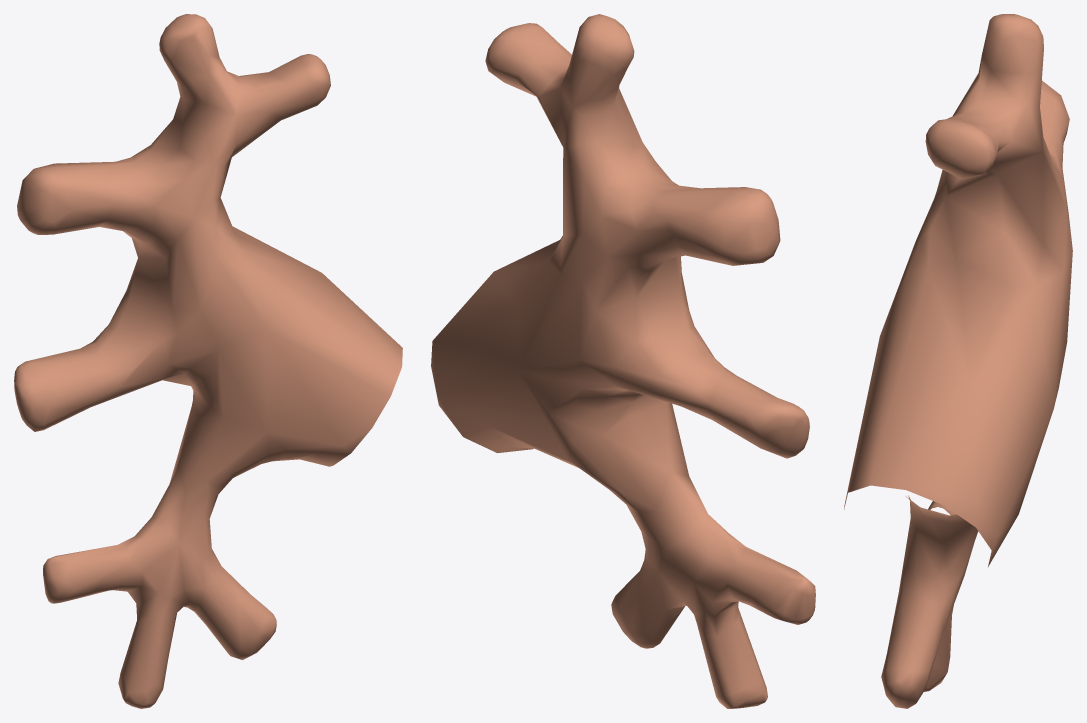
Rendered from renal-pelvis-r.glb.
3 views of the same model, side by side, from view 1: azimuth 30°, elevation 25°; view 2: azimuth 150°, elevation 25°; view 3: azimuth 270°, elevation 25° (orthographic). The views are drawn at different scales.
Visible parts, largest first — view 1: Renal pelvis.r; view 2: Renal pelvis.r; view 3: Renal pelvis.r.
Boxes of the visible parts, box(x1,y1,x2,y2) form: Renal pelvis.r: box(14, 14, 402, 708); Renal pelvis.r: box(431, 14, 815, 708); Renal pelvis.r: box(844, 14, 1072, 708).
Size of the model in its own units: 0.0433 by 0.0745 by 0.0214.
